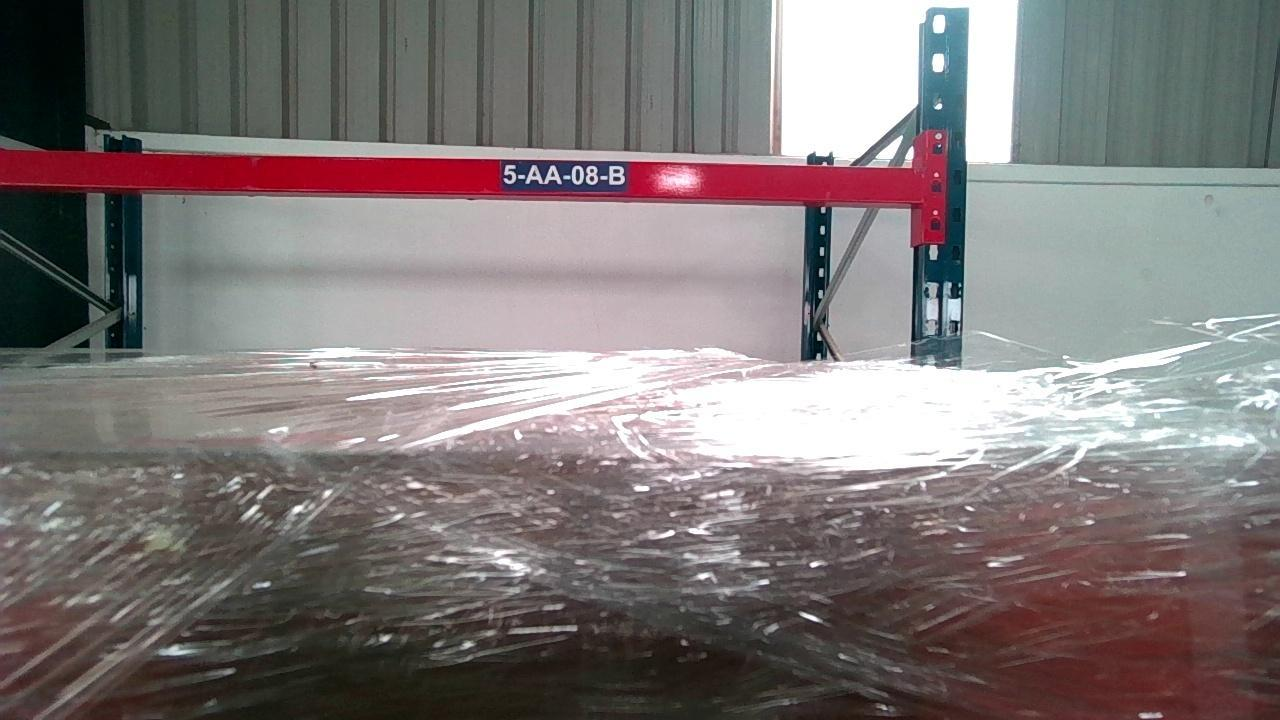h_rack: (0, 150, 921, 202)
